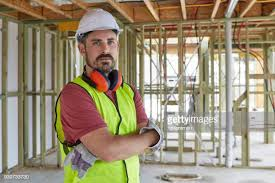hard hat: (75, 8, 121, 38)
high-vis: (55, 77, 138, 178)
